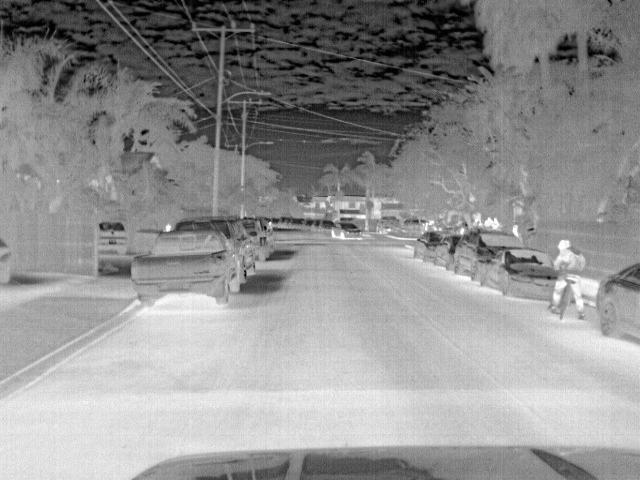car: (132, 230, 243, 306), (173, 219, 254, 285), (453, 230, 528, 281), (482, 248, 550, 304), (594, 264, 640, 346), (238, 216, 270, 260), (96, 218, 130, 258), (431, 235, 463, 268), (414, 232, 453, 259), (329, 221, 364, 240), (375, 214, 401, 233)
person: (549, 237, 586, 319), (510, 223, 526, 242)
